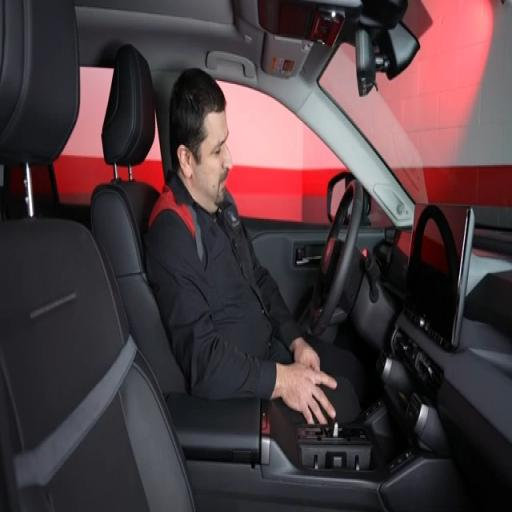side_mirror: (376, 23, 419, 79), (327, 171, 354, 223), (327, 171, 353, 221), (356, 29, 375, 96)
window: (220, 83, 344, 224)
windshield: (320, 0, 511, 213)
